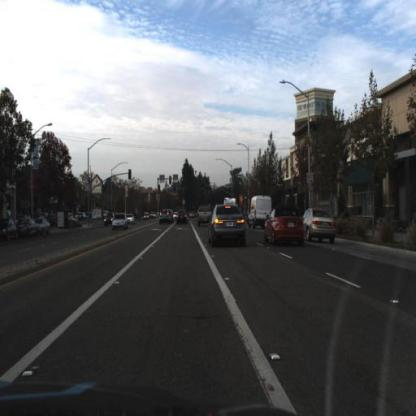car: (208, 204, 247, 250), (263, 208, 303, 247), (298, 209, 337, 245), (246, 192, 274, 233), (16, 213, 40, 240), (16, 219, 39, 242), (1, 215, 16, 243), (198, 206, 216, 229), (36, 214, 53, 237), (176, 205, 192, 229), (111, 213, 131, 232), (159, 206, 175, 229), (34, 217, 51, 238), (111, 213, 128, 233)
truck: (248, 195, 272, 231)
